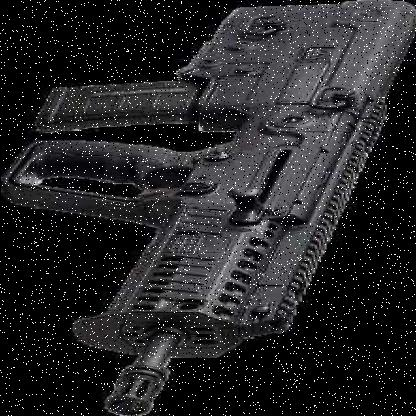rifle: (5, 2, 416, 416)
